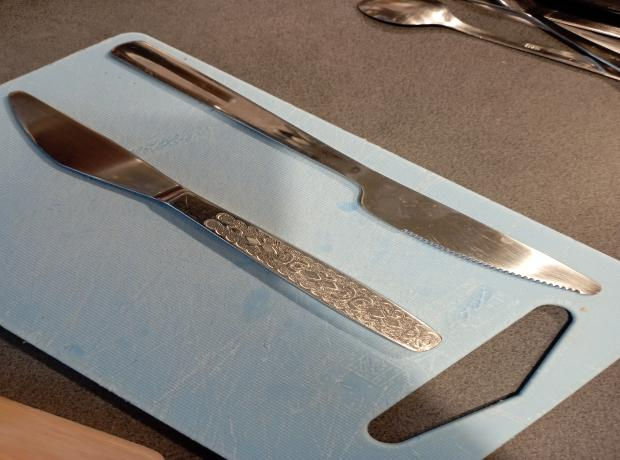metal: (105, 40, 603, 297), (8, 90, 444, 354)
